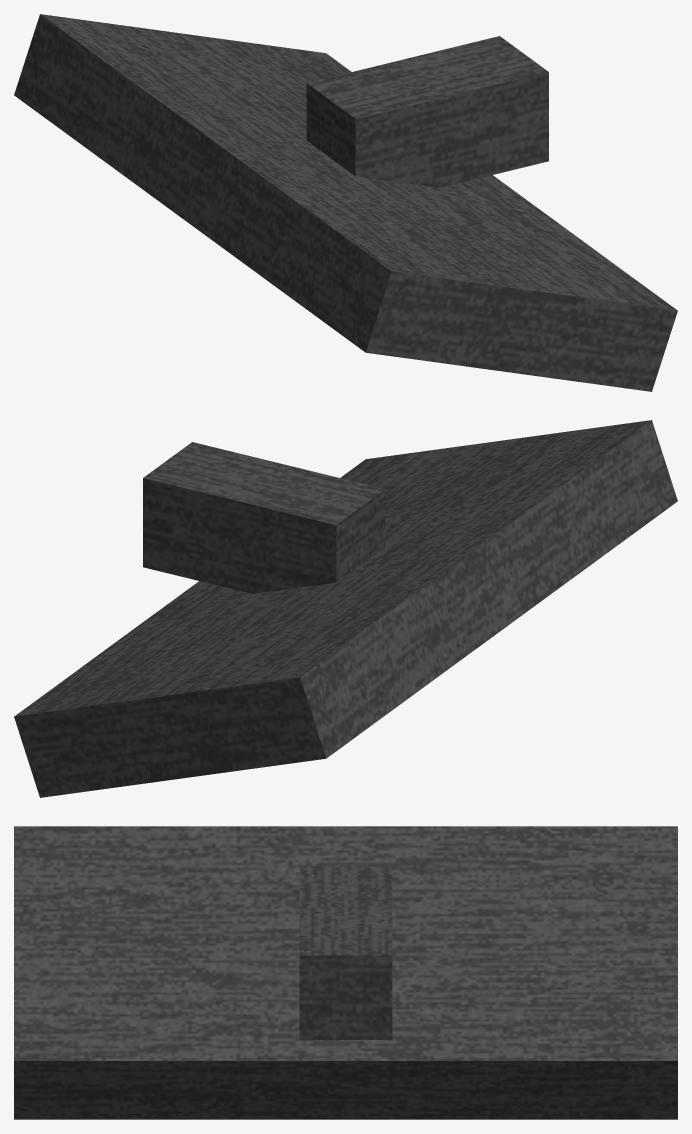
Rendered from HugeLamp.fbx.
3 views of the same model, one above another, from view 1: azimuth 30°, elevation 25°; view 2: azimuth 150°, elevation 25°; view 3: azimuth 270°, elevation 25° (orthographic). The views are drawn at different scales.
Visible parts, largest first — view 1: Cube.002; view 2: Cube.002; view 3: Cube.002.
Part boxes in pixels (x1=…): Cube.002: x1=14, y1=14, x2=677, y2=391; Cube.002: x1=14, y1=420, x2=677, y2=797; Cube.002: x1=14, y1=826, x2=677, y2=1119.
Bounding box in the file's own units: 329 × 186 × 600.
